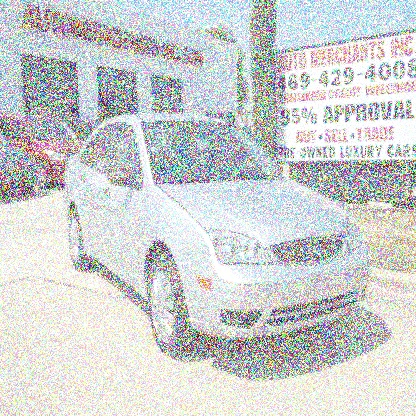Vehicle: (64, 111, 376, 356)
